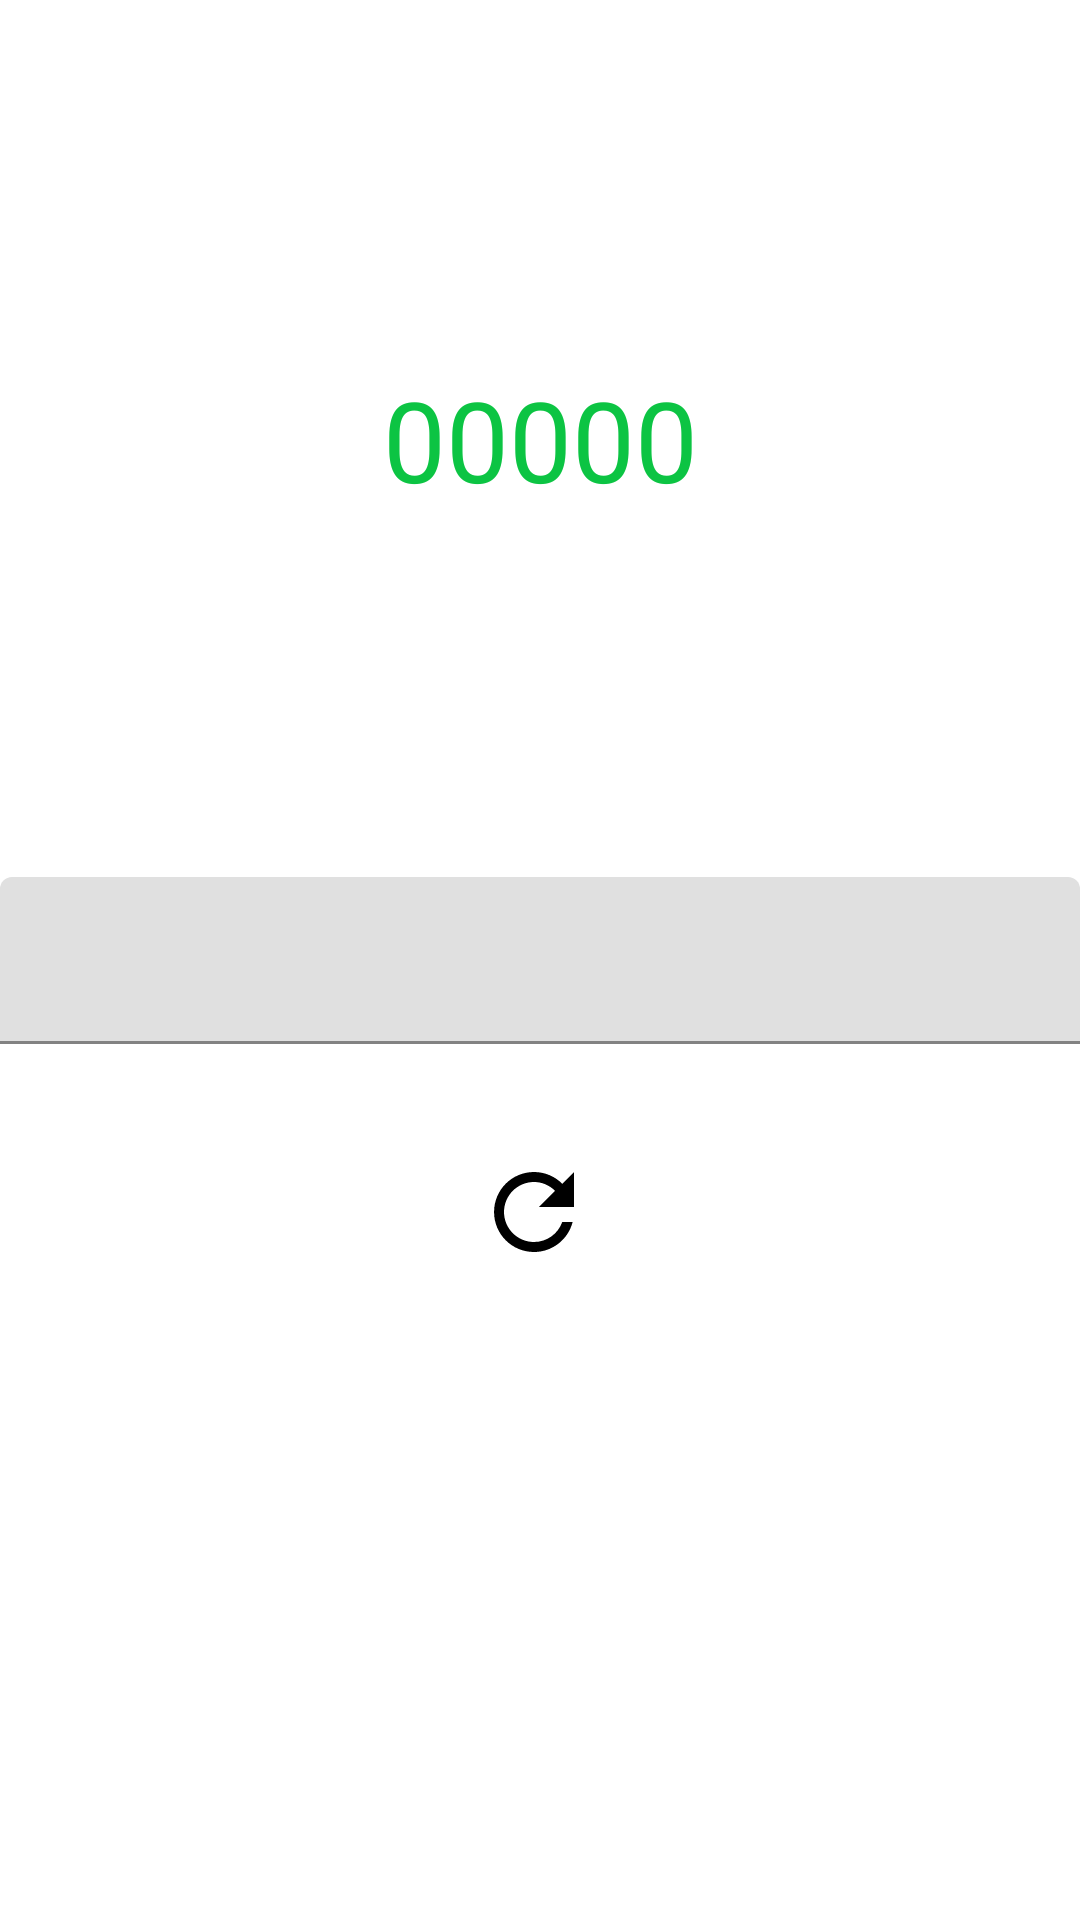

Named icons in this screenshot (1080x1920) and their bounding boxes, [left=x1, top=y1, right=x2, bottom=y2]:
refresh: [left=494, top=1172, right=574, bottom=1252]
